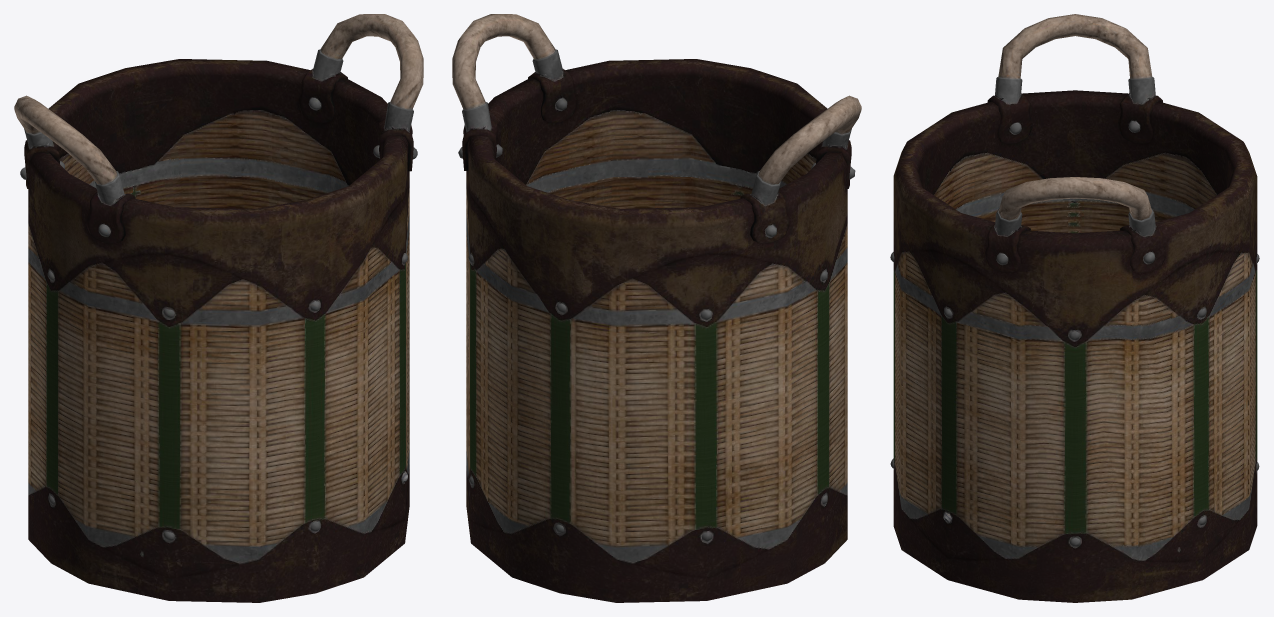
Rendered from wicker.glb.
The picture shows the model from 3 angles, left to right: view 1: azimuth 30°, elevation 25°; view 2: azimuth 150°, elevation 25°; view 3: azimuth 270°, elevation 25°; orthographic projection. The views are drawn at different scales.
Visible parts, largest first — view 1: Object_2; view 2: Object_2; view 3: Object_2.
Boxes of the visible parts, box(x1,y1,x2,y2) form: Object_2: box(14, 14, 423, 602); Object_2: box(452, 14, 861, 602); Object_2: box(890, 14, 1259, 602).
Bounding box in the file's own units: 0.2984 × 0.36 × 0.2707.
Materials: 1 (1 with a texture image).
